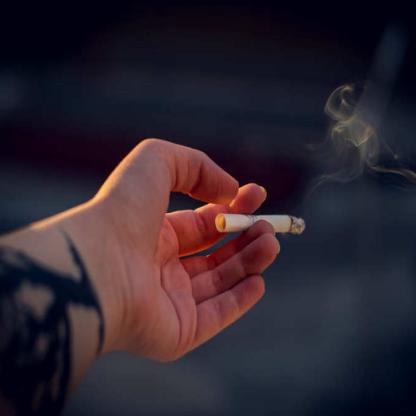cigarette: (214, 212, 308, 236)
smoke: (326, 93, 384, 168)
